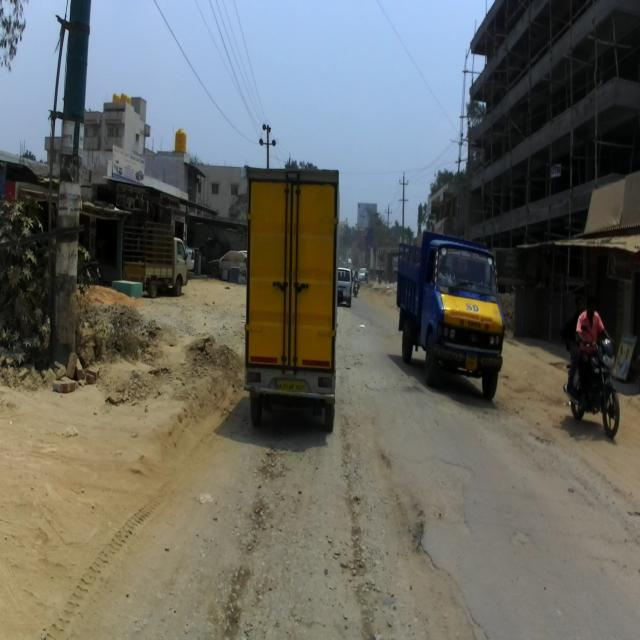electric pole ahead at: (42, 4, 100, 392)
motorcycle ahead at: (567, 335, 624, 447)
truck ahead at: (245, 156, 342, 438), (392, 226, 508, 399)
